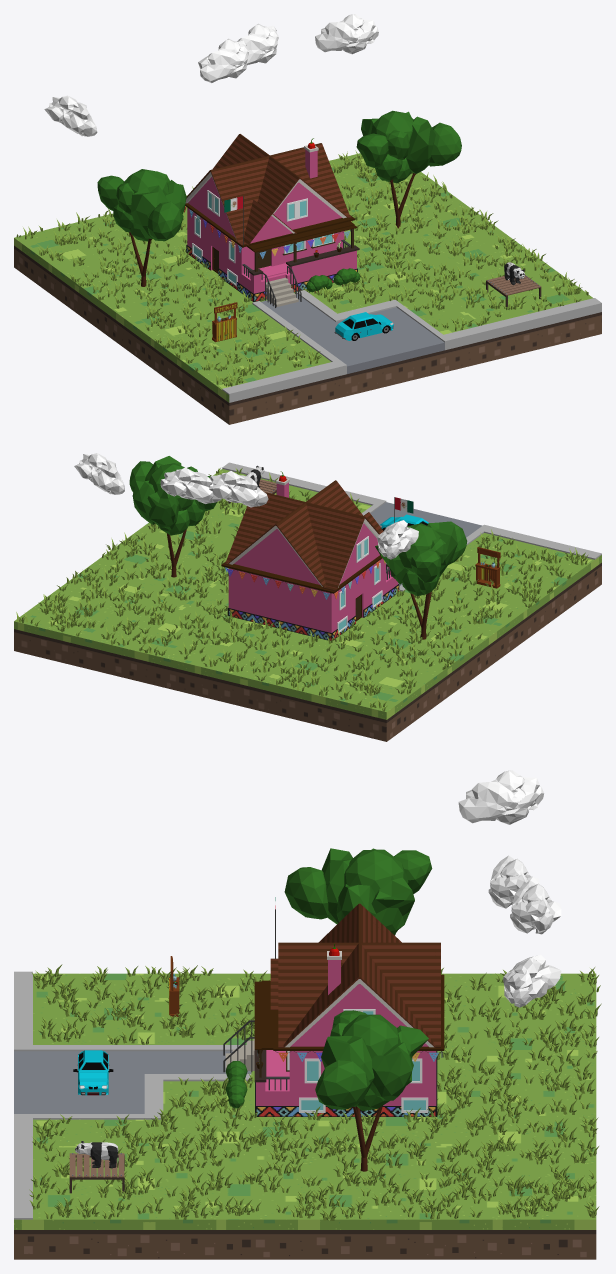
3 views of the same model, one above another, from view 1: azimuth 30°, elevation 25°; view 2: azimuth 150°, elevation 25°; view 3: azimuth 270°, elevation 25° (orthographic). The views are drawn at different scales.
Parts seen in each view (by area): view 1: Cube.006, Cube.1005, Circle.012_Grass_0.192, Cube.007, tree, tree.001, VEHICLES_CAR, OBJRANDOM_LEMONADE_STAND, Cube.009; view 2: Cube.006, Cube.1005, Circle.012_Grass_0.192, Cube.007, tree.001, tree, OBJRANDOM_LEMONADE_STAND; view 3: Cube.006, Circle.012_Grass_0.192, Cube.1005, tree, Cube.007, tree.001, VEHICLES_CAR, Cube.009, ANIMAL_PANDA.
Part boxes in pixels (left/top/right/bottom): Cube.006: left=14, top=153, right=601, bottom=424; Cube.1005: left=184, top=134, right=359, bottom=307; Circle.012_Grass_0.192: left=16, top=150, right=588, bottom=386; Cube.007: left=44, top=14, right=378, bottom=136; tree: left=356, top=110, right=461, bottom=228; tree.001: left=97, top=169, right=186, bottom=286; VEHICLES_CAR: left=334, top=312, right=393, bottom=340; OBJRANDOM_LEMONADE_STAND: left=212, top=302, right=237, bottom=342; Cube.009: left=486, top=275, right=541, bottom=306; Cube.006: left=14, top=462, right=601, bottom=741; Cube.1005: left=221, top=471, right=413, bottom=640; Circle.012_Grass_0.192: left=16, top=468, right=588, bottom=711; Cube.007: left=74, top=453, right=418, bottom=559; tree.001: left=375, top=521, right=467, bottom=639; tree: left=129, top=456, right=216, bottom=577; OBJRANDOM_LEMONADE_STAND: left=475, top=547, right=500, bottom=588; Cube.006: left=14, top=971, right=596, bottom=1259; Circle.012_Grass_0.192: left=29, top=964, right=601, bottom=1220; Cube.1005: left=223, top=897, right=444, bottom=1116; tree: left=315, top=1010, right=428, bottom=1171; Cube.007: left=458, top=770, right=561, bottom=1007; tree.001: left=284, top=848, right=432, bottom=935; VEHICLES_CAR: left=73, top=1050, right=113, bottom=1095; Cube.009: left=69, top=1153, right=124, bottom=1193; ANIMAL_PANDA: left=75, top=1141, right=118, bottom=1168.
Bounding box in the file's own units: 4071 × 2175 × 4040.
73 materials, 5 textured.
